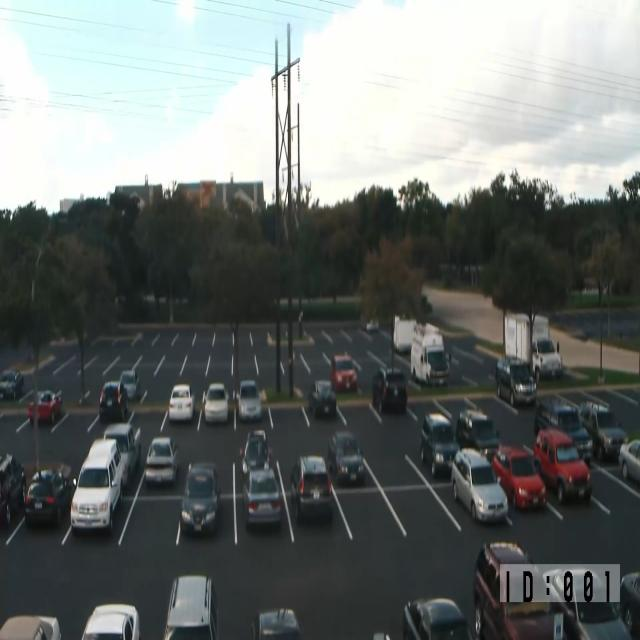car: (473, 541, 588, 639), (543, 568, 633, 640), (70, 438, 124, 534), (533, 428, 592, 505), (451, 447, 509, 524), (534, 395, 592, 466), (163, 574, 218, 640), (492, 444, 546, 511), (24, 464, 73, 527), (402, 597, 473, 639), (579, 399, 627, 461), (290, 454, 333, 522), (180, 462, 220, 535), (564, 600, 632, 640), (420, 412, 460, 477), (103, 422, 141, 488), (242, 467, 282, 528), (456, 408, 500, 462), (495, 357, 537, 408), (327, 430, 365, 486), (81, 603, 140, 639), (0, 452, 26, 526), (372, 366, 408, 414), (250, 607, 302, 639), (145, 436, 178, 485), (240, 428, 272, 476), (0, 614, 61, 639), (619, 572, 640, 638), (532, 338, 562, 380), (28, 389, 62, 425), (99, 380, 128, 422), (308, 379, 337, 418), (330, 353, 358, 393), (236, 379, 262, 422), (168, 383, 195, 422), (618, 438, 640, 484), (204, 382, 228, 424), (0, 369, 24, 400), (119, 369, 139, 400), (366, 318, 379, 331), (373, 632, 391, 640)
